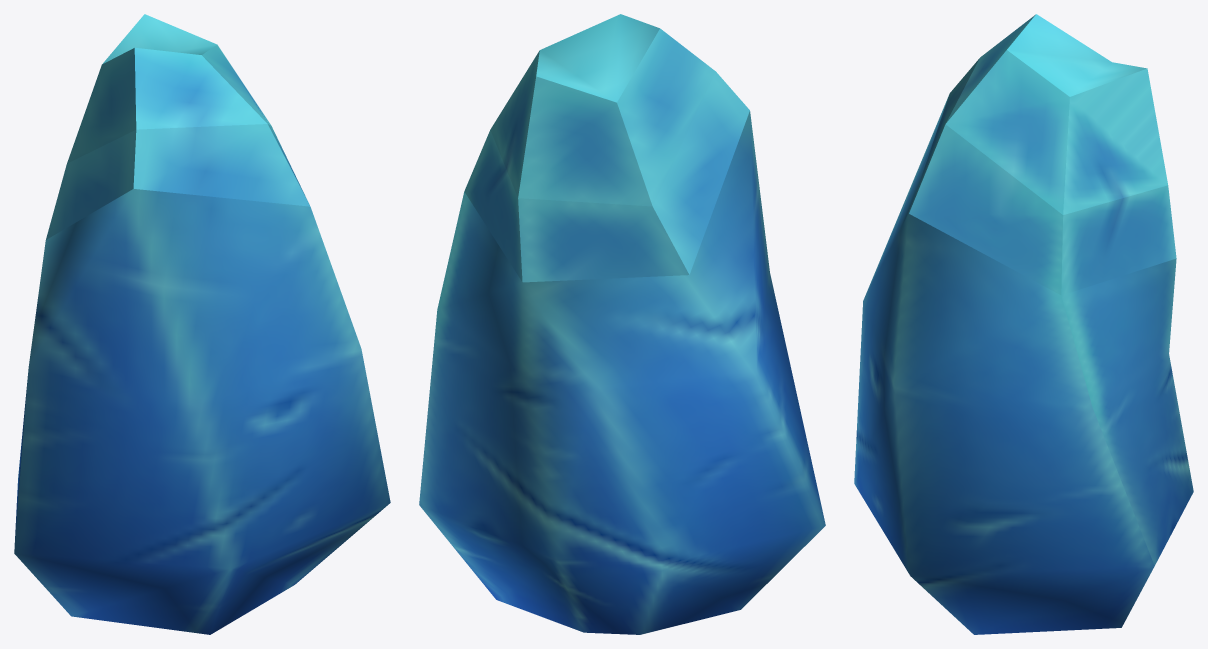
The model's file is crystal_4.fbx.
The picture shows the model from 3 angles, left to right: view 1: azimuth 30°, elevation 25°; view 2: azimuth 150°, elevation 25°; view 3: azimuth 270°, elevation 25°; orthographic projection. The views are drawn at different scales.
Parts seen in each view (by area): view 1: crystal_4; view 2: crystal_4; view 3: crystal_4.
Part boxes in pixels (x1,y1,x2,y2): crystal_4: [14, 14, 390, 634]; crystal_4: [419, 14, 825, 634]; crystal_4: [854, 14, 1193, 634].
Size of the model in its own units: 0.4182 by 0.6539 by 0.3616.
